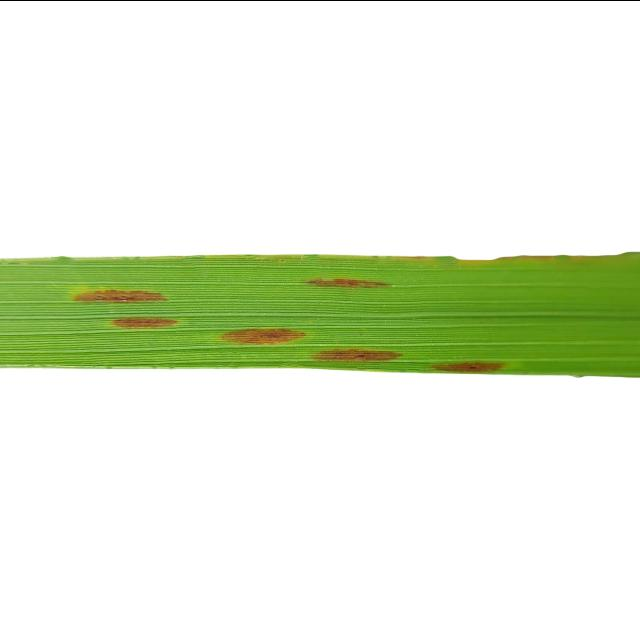Narrow brown: (3, 173, 640, 419)
